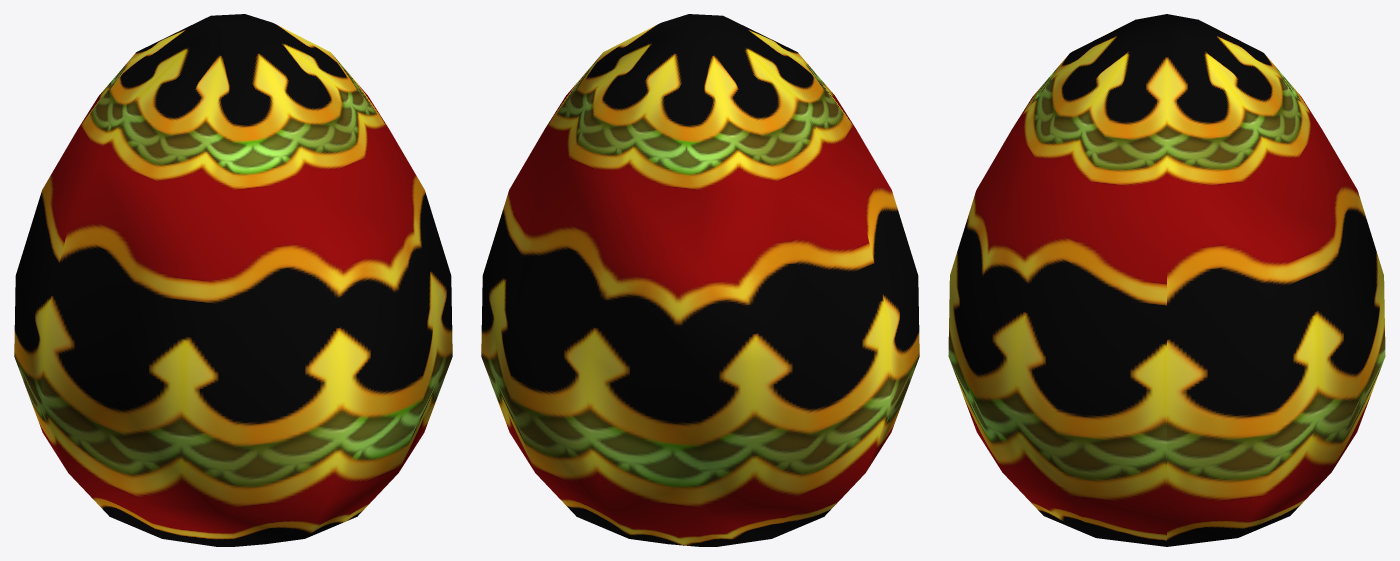
File: MajinEgg.gltf
3 views of the same model, side by side, from view 1: azimuth 30°, elevation 25°; view 2: azimuth 150°, elevation 25°; view 3: azimuth 270°, elevation 25° (orthographic).
Visible parts, largest first — view 1: MajinEggMesh; view 2: MajinEggMesh; view 3: MajinEggMesh.
Boxes of the visible parts, box(x1,y1,x2,y2) form: MajinEggMesh: box(14, 14, 452, 546); MajinEggMesh: box(481, 14, 919, 546); MajinEggMesh: box(948, 14, 1385, 546).
Bounding box in the file's own units: 1.19 × 1.5 × 1.19.
Materials: 1 (1 with a texture image).
